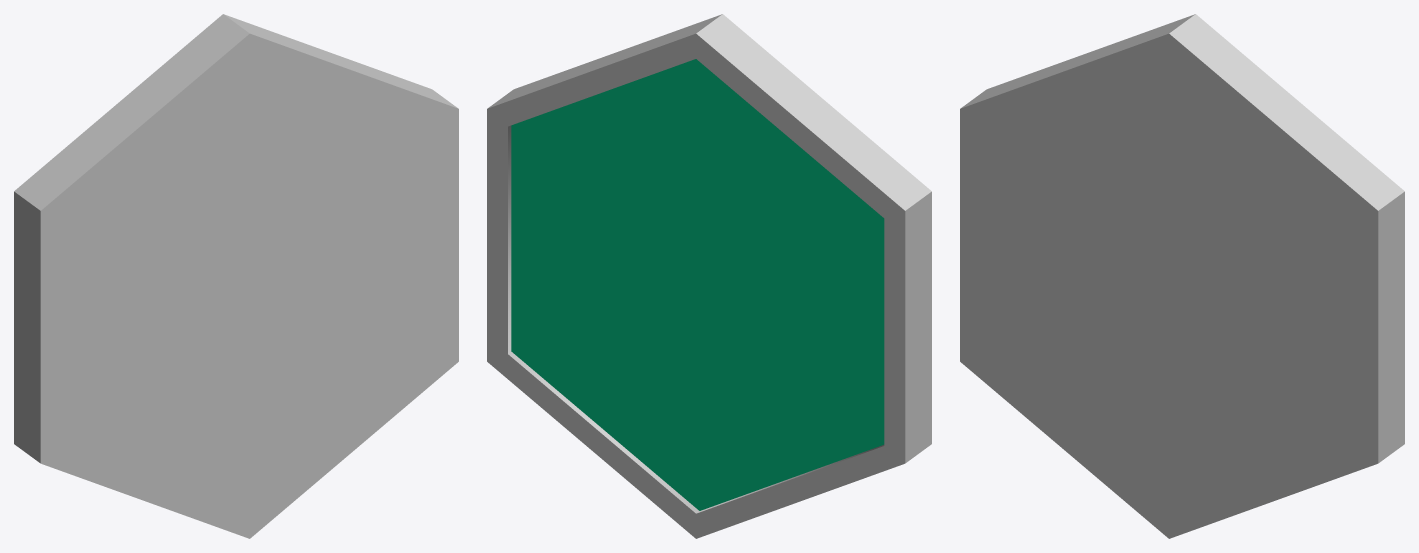
Rendered from hexagone.fbx.
3 views of the same model, side by side, from view 1: azimuth 30°, elevation 25°; view 2: azimuth 150°, elevation 25°; view 3: azimuth 330°, elevation 25° (orthographic).
Visible parts, largest first — view 1: Circle; view 2: Circle; view 3: Circle.
Part boxes in pixels (left/top/right/bottom): Circle: left=14, top=14, right=458, bottom=538; Circle: left=487, top=14, right=931, bottom=538; Circle: left=960, top=14, right=1404, bottom=538.
Size of the model in its own units: 173 by 200 by 19.17.
